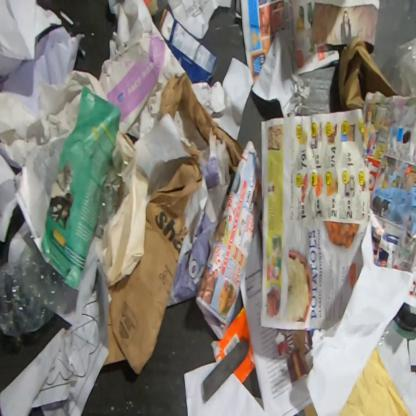cardboard: (157, 6, 220, 84), (338, 37, 399, 112)
rigid_plastic: (0, 236, 69, 336), (93, 174, 130, 239), (107, 0, 173, 17), (374, 320, 392, 352)
soft_plastic: (390, 23, 415, 127)
